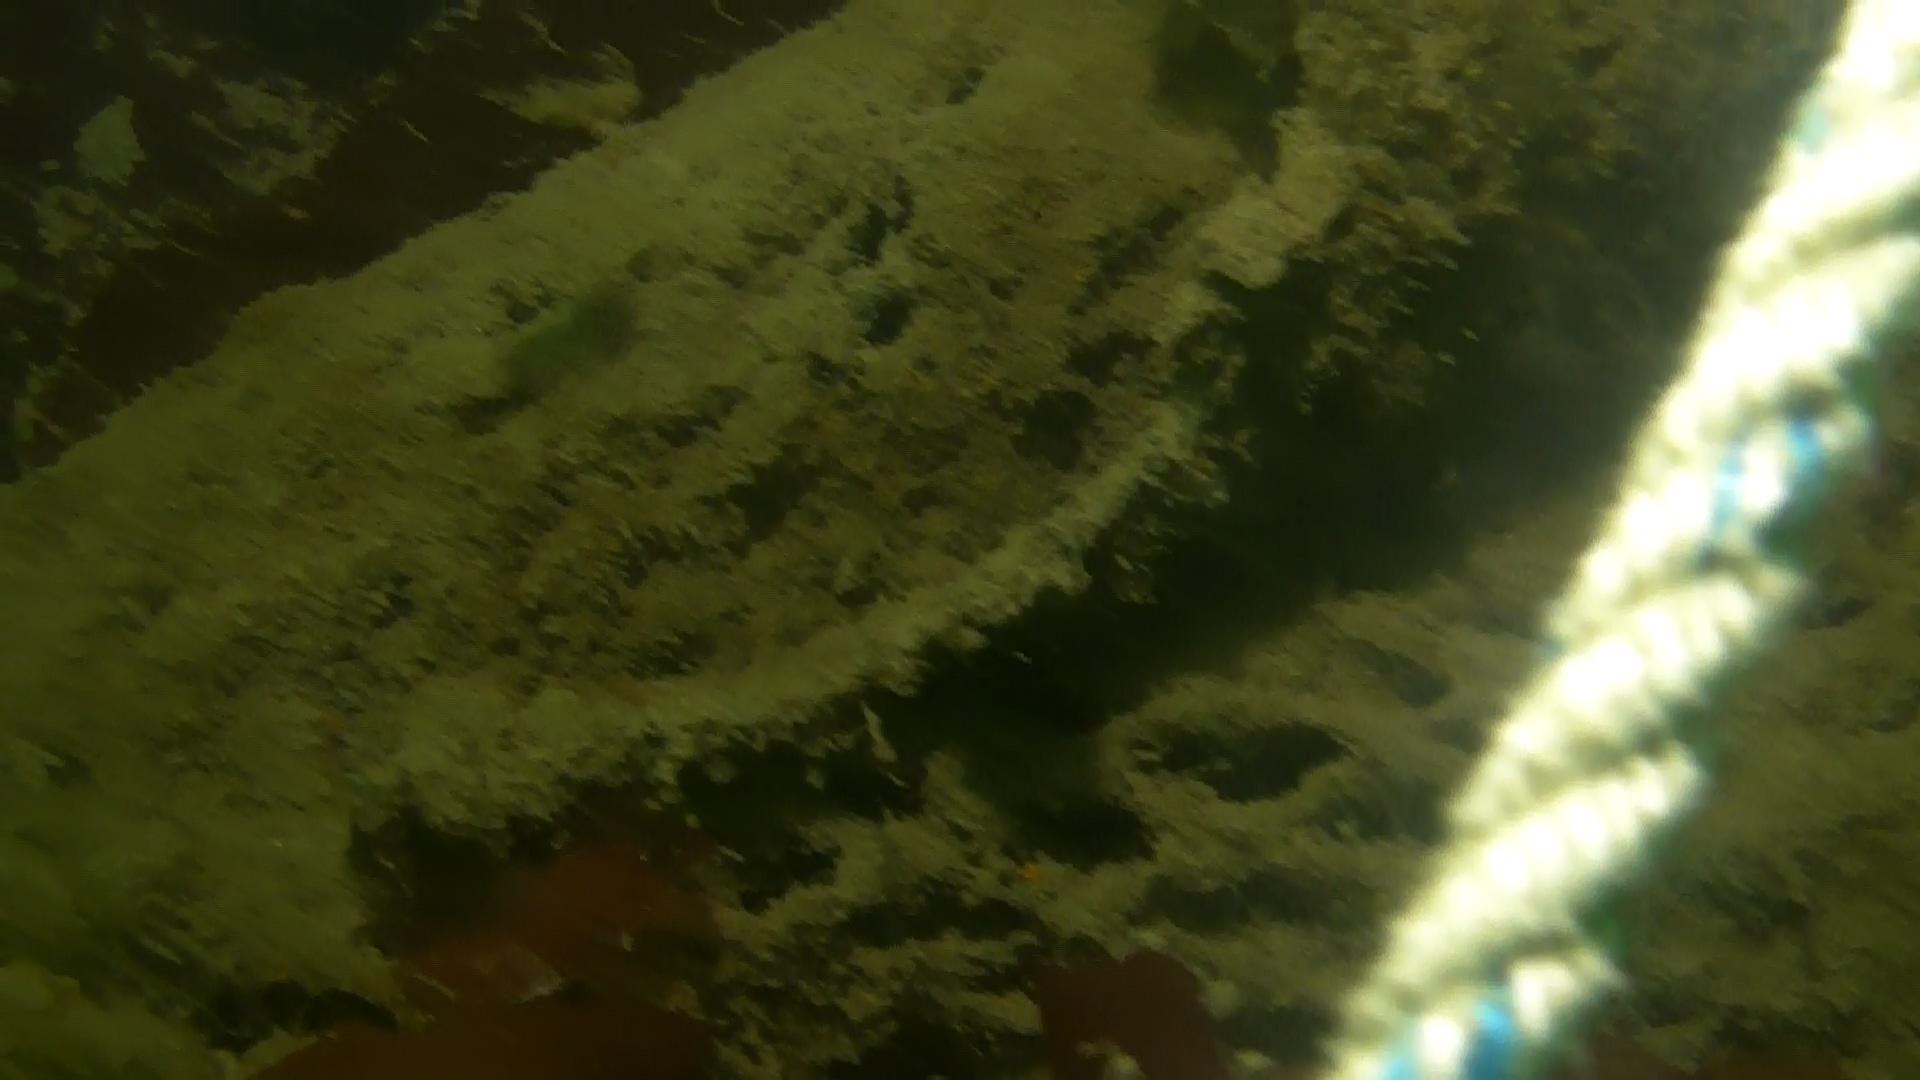rope: (1328, 0, 1920, 1080)
